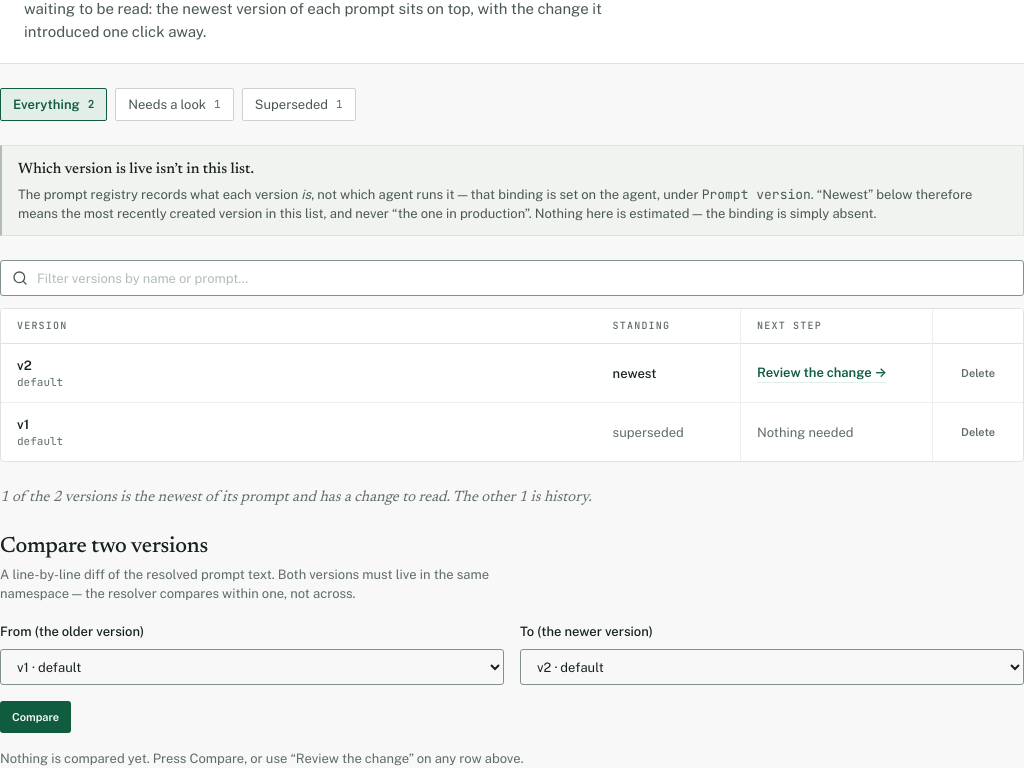
Scenario: PromptsPage › diff: pick from/to → renders textual diff with resolveMode shown
(page scrolled)
Expected: the element with test id "prompt-version-v1" is shown, [17,417,63,448]
Note: Fill in from/to
Select "v1 · default" in the dropdown with test id "diff-from-input": (252,667) [0,649,504,685]
Select "v2 · default" in the dropdown with test id "diff-to-input": (772,667) [520,649,1023,685]
Click the button with test id "diff-compare-btn": (36,717) [0,701,71,733]
(page scrolled)
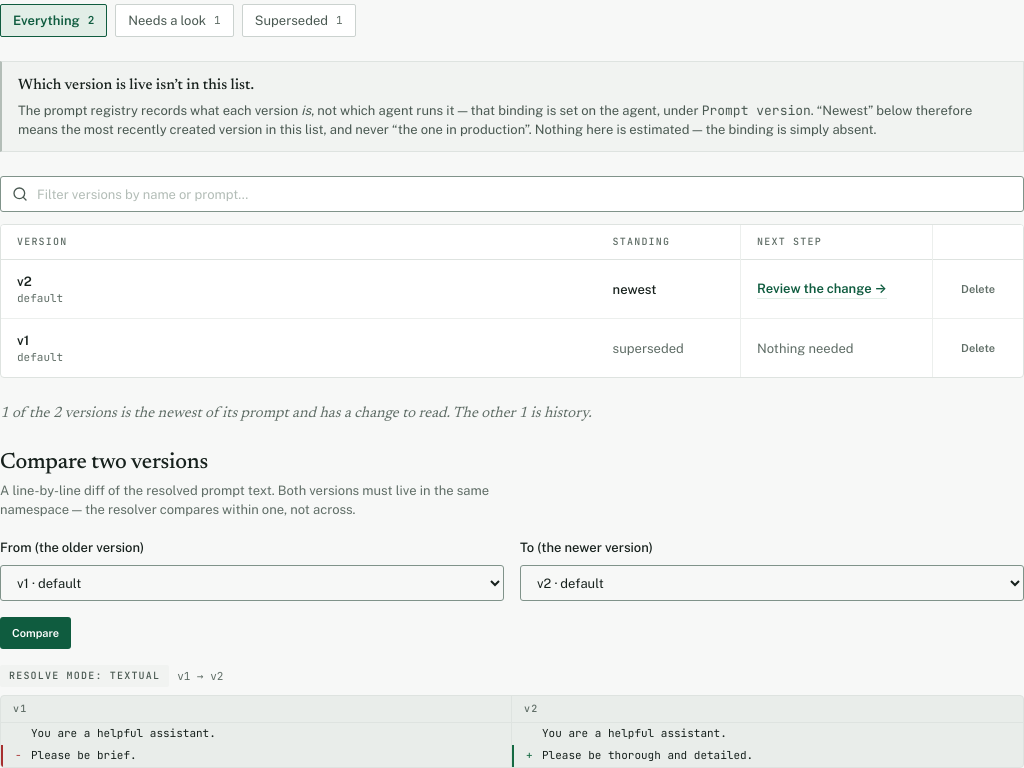
Now the element with test id "prompt-diff" is shown, box [0,665,1023,767]
Now the text "resolve mode: textual" is shown, box [0,665,169,687]
Now the element with test id "prompt-diff-lines" is shown, box [0,695,1023,767]
